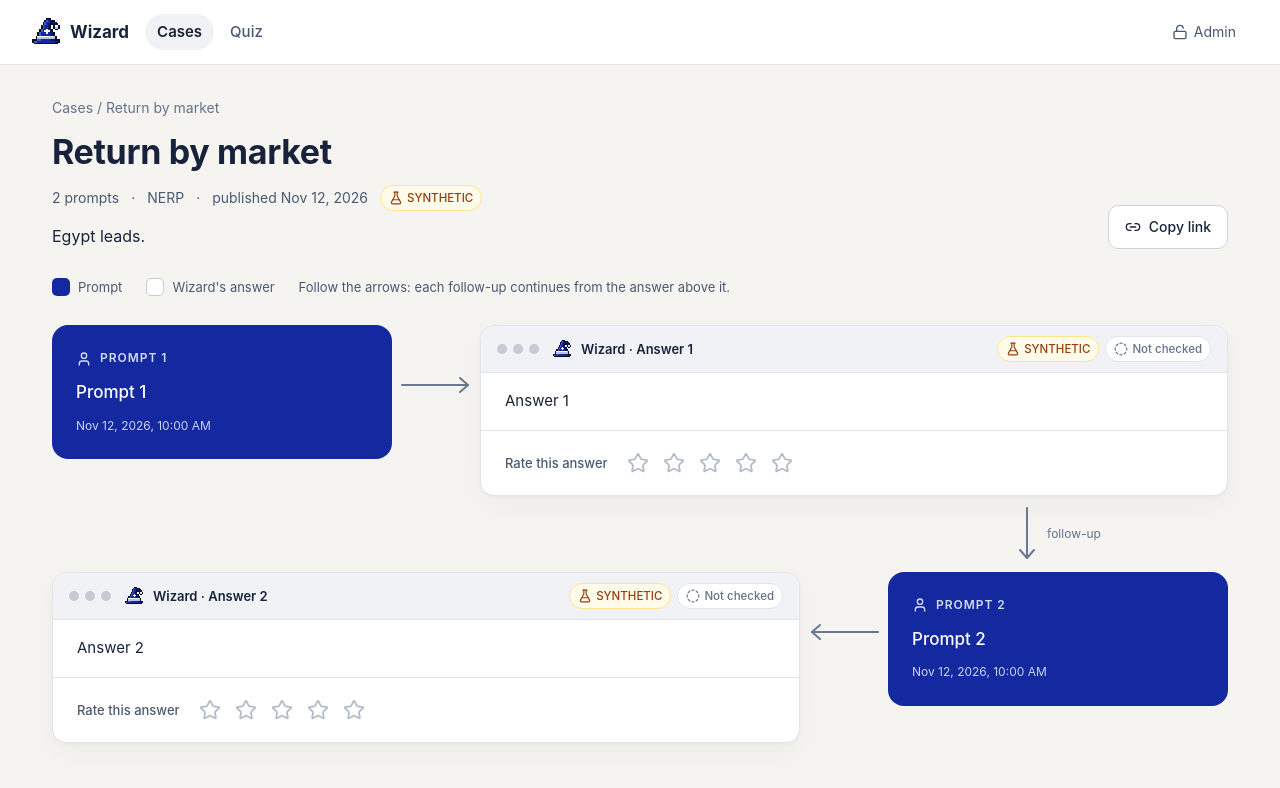
Test: rating an answer › sends the stars and the comment anonymously, once, and remembers it on this browser
Click the 4th radio button with test id "case-star": x=746, y=463 [728, 445, 764, 481]
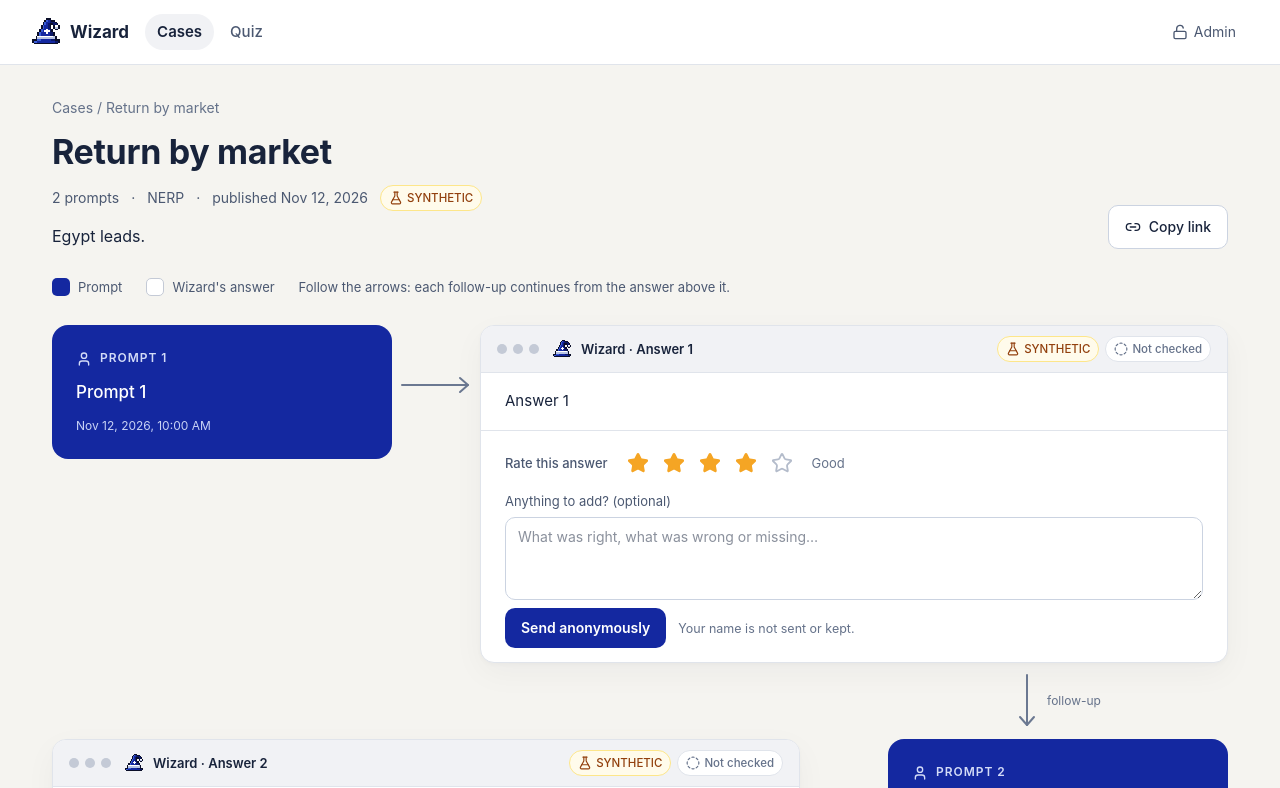
In the text box with test id "case-comment": x=854, y=559 [505, 517, 1203, 600], type "Right market, wrong quarter"
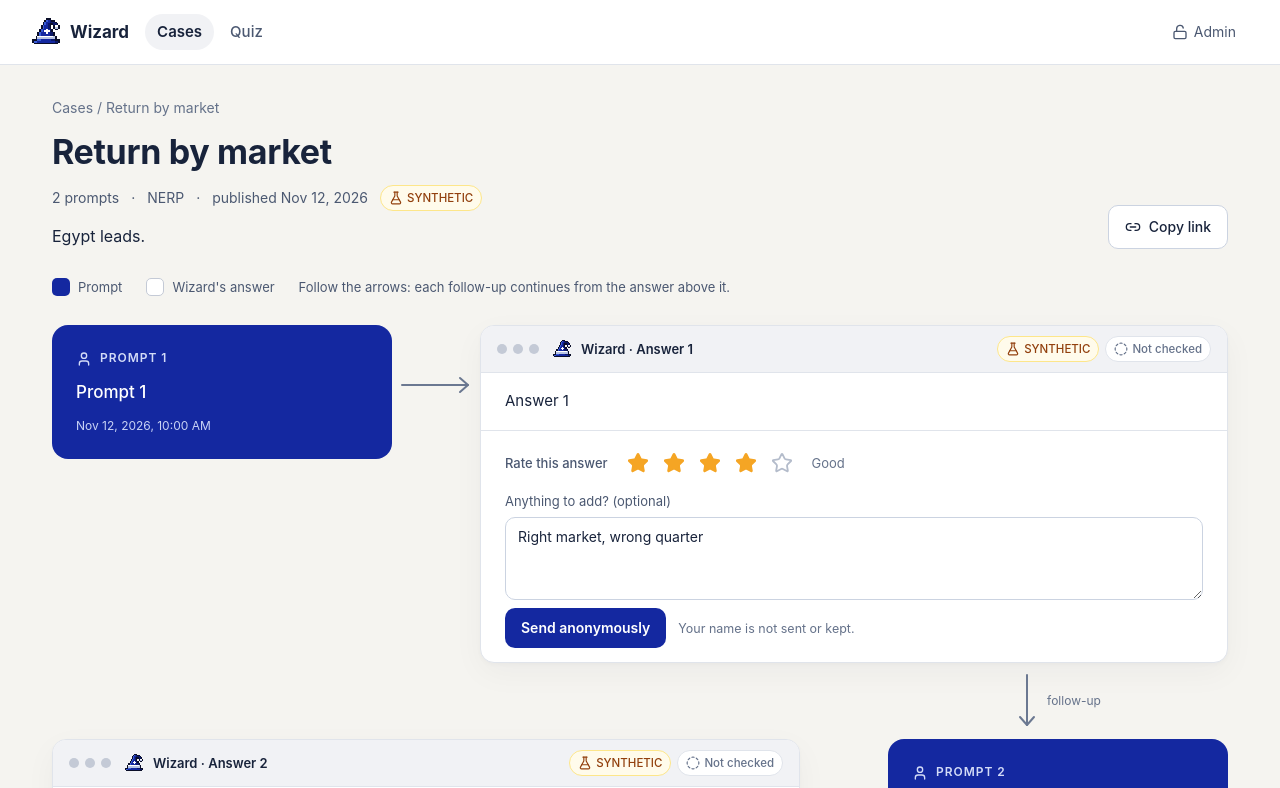
Click the button with test id "case-rate-send": x=586, y=628 [505, 608, 666, 648]
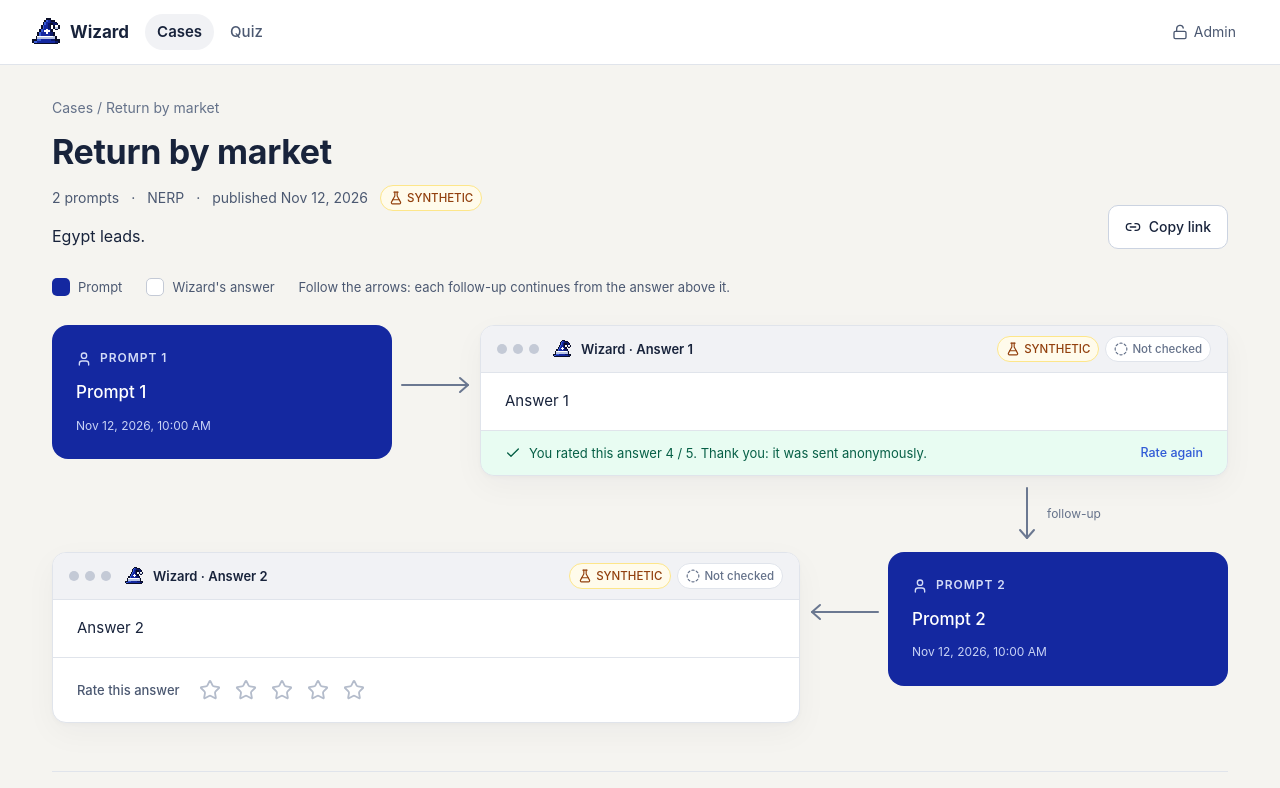
Result: the text "You rated this answer 4 / 5" is shown at [481, 430, 1227, 475]
